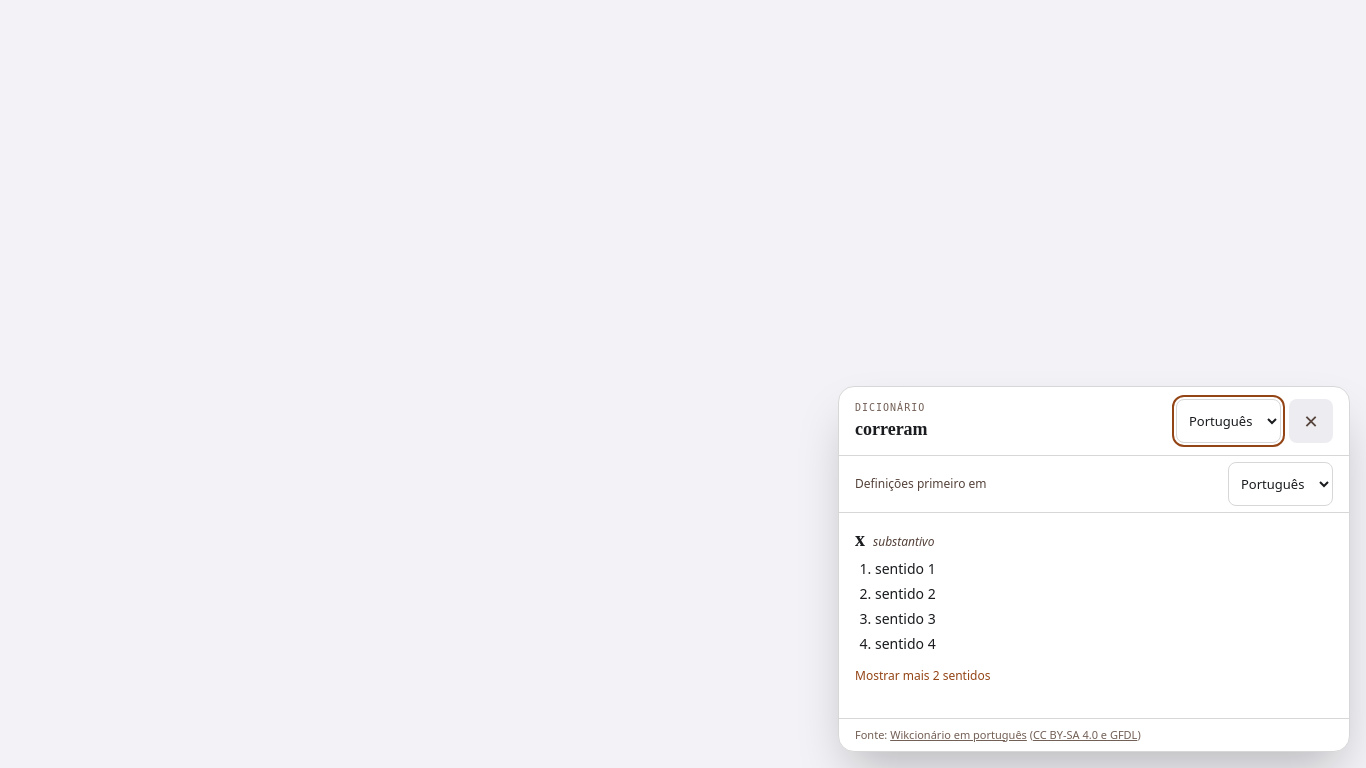
it: DictionaryCard: what it says › shows the first senses and the rest on request
Expected: the number of list items is 4, [875, 558, 936, 578]; [875, 584, 936, 603]; [875, 609, 936, 628]; [875, 634, 936, 653]
Click the button "Mostrar mais 2 sentidos" at point(923, 676), box [855, 658, 990, 694]
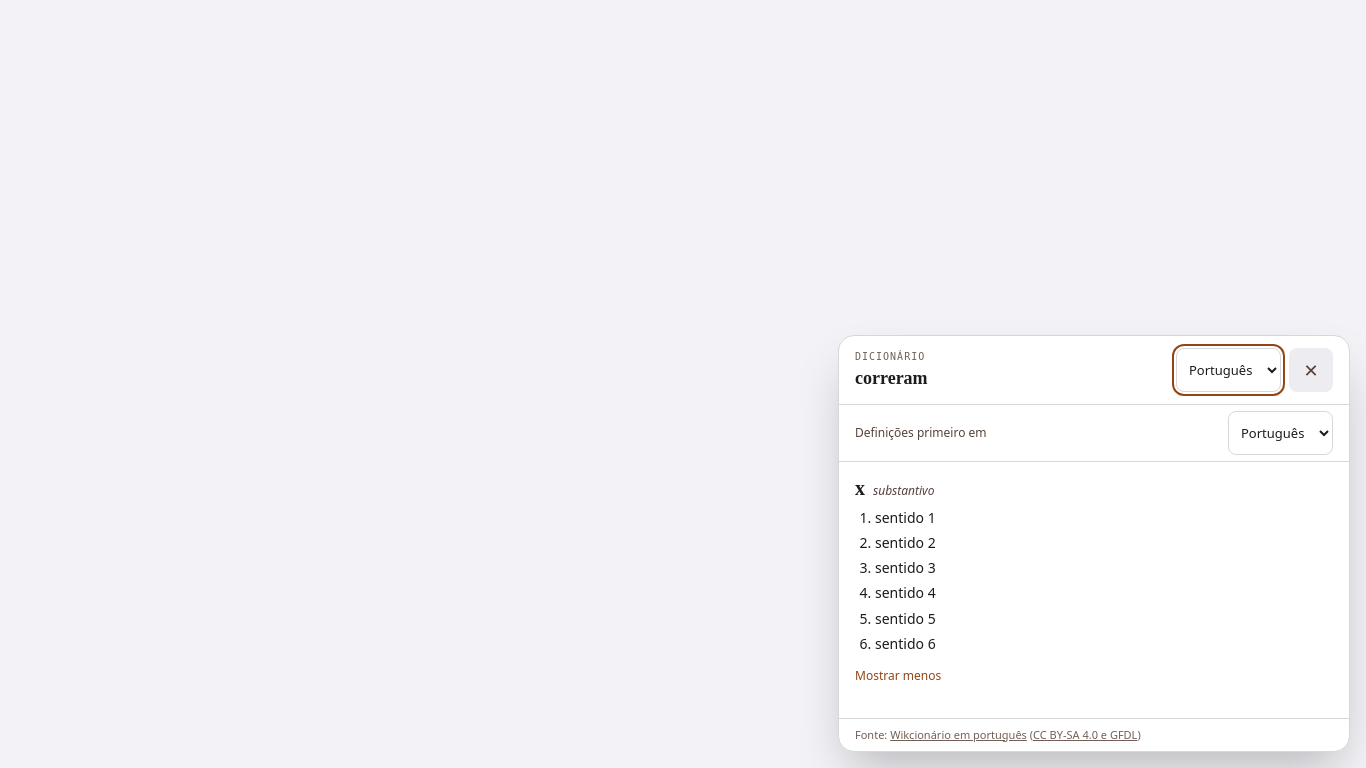
Expected: the number of list items is 6, [875, 508, 936, 527]; [875, 533, 936, 552]; [875, 558, 936, 578]; [875, 584, 936, 603]; [875, 609, 936, 628]; [875, 634, 936, 653]
Click the button "Mostrar menos" at point(898, 676), box [855, 658, 941, 694]
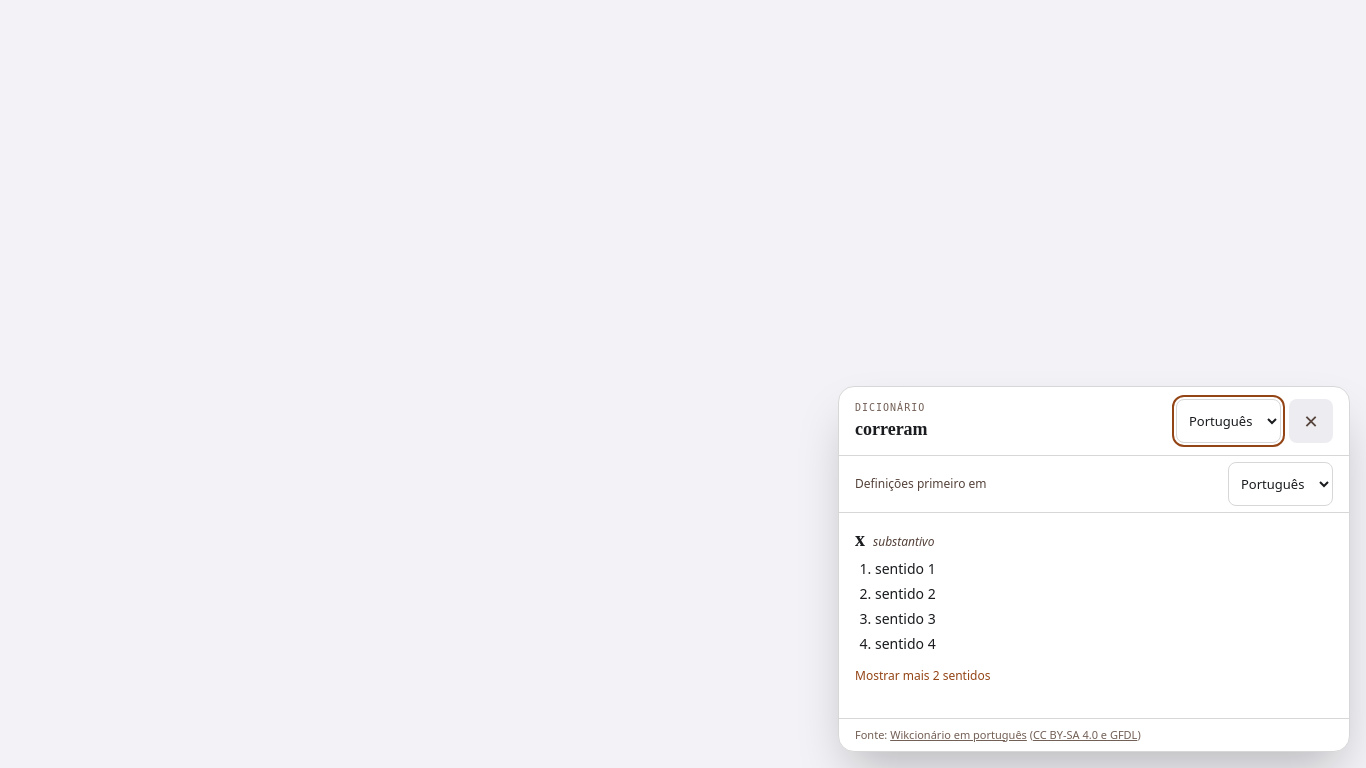
Expected: the number of list items is 4, [875, 558, 936, 578]; [875, 584, 936, 603]; [875, 609, 936, 628]; [875, 634, 936, 653]
